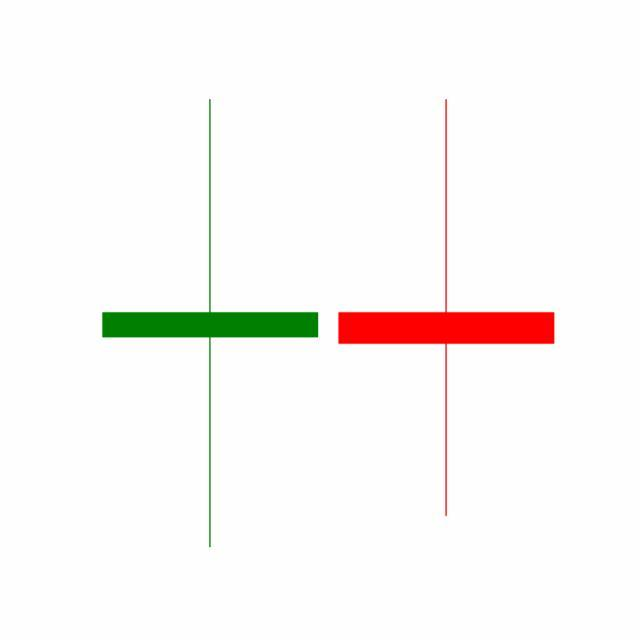Spinning Top: (328, 95, 566, 522)
